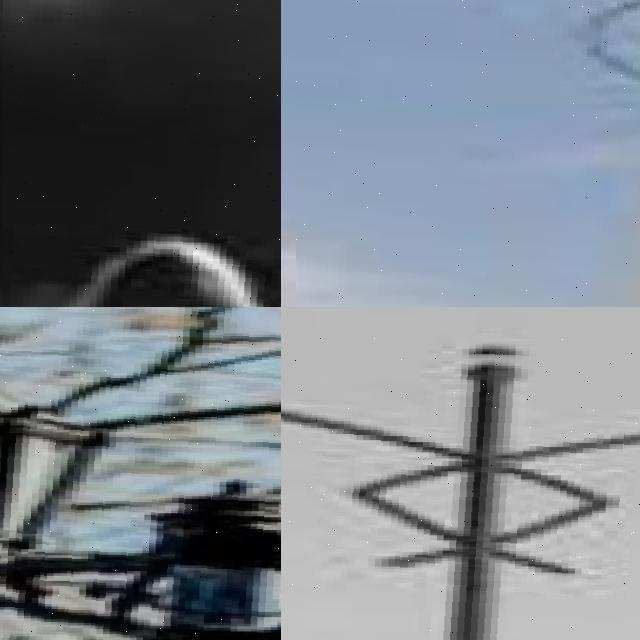street light: (281, 338, 640, 640), (296, 0, 640, 307), (0, 307, 281, 640), (3, 0, 281, 307)
